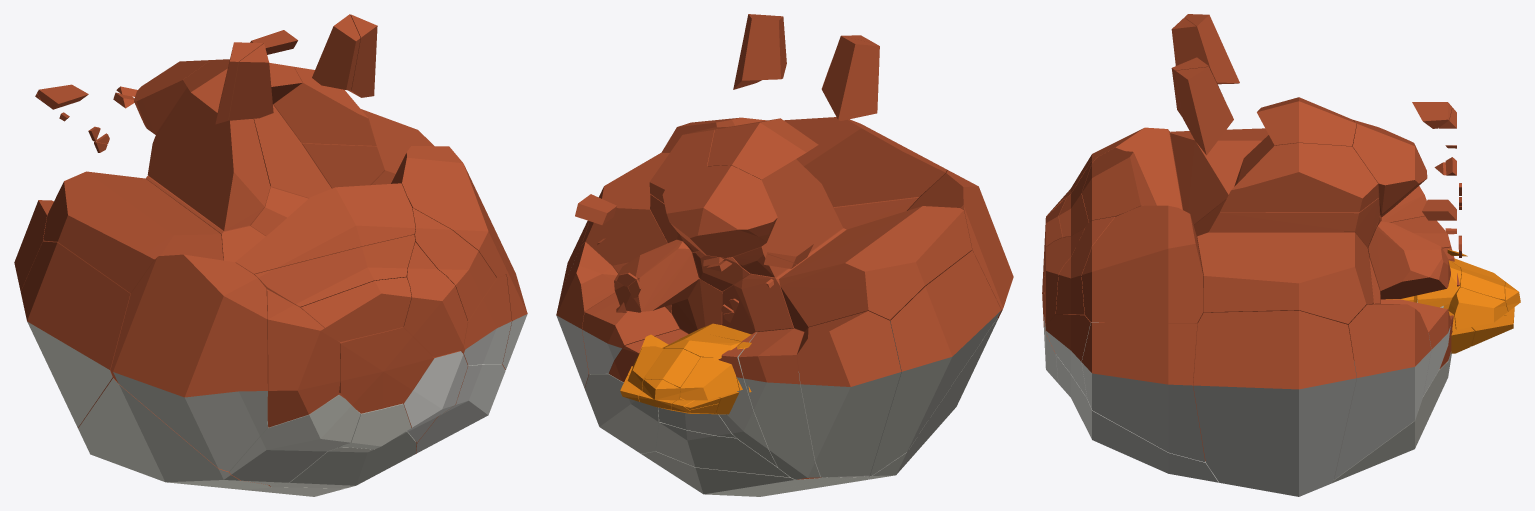
Rendered from explodedBird.fbx.
3 views of the same model, side by side, from view 1: azimuth 30°, elevation 25°; view 2: azimuth 150°, elevation 25°; view 3: azimuth 270°, elevation 25° (orthographic). The views are drawn at different scales.
Parts seen in each view (by area): view 1: Sphere.005_cell.037, Sphere.005_cell.041, Sphere.005_cell.008, Sphere.005_cell.010, Sphere.005_cell.032, Sphere.005_cell.090, Sphere.005_cell.047, Sphere.005_cell.061, Sphere.005_cell.039, Sphere.005_cell.080, Sphere.005_cell.076, Sphere.005_cell.064 (+24 smaller); view 2: Sphere.005_cell.041, Sphere.005_cell.070, Sphere.005_cell.008, Sphere.005_cell.032, Sphere.005_cell.004, Sphere.005_cell.031, Sphere.005_cell.010, Sphere.005_cell.016, Sphere.005_cell.009, Sphere.005_cell.037, Sphere.005_cell.088, Sphere.005_cell.071 (+26 smaller); view 3: Sphere.005_cell.013, Sphere.005_cell.016, Sphere.005_cell.072, Sphere.005_cell.061, Sphere.005_cell.074, Sphere.005_cell.064, Sphere.005_cell.041, Sphere.005_cell.088, Sphere.005_cell.004, Sphere.005_cell.063, Sphere.005_cell.067, Sphere.005_cell.032 (+21 smaller).
Boxes of the visible parts, x1=… form: Sphere.005_cell.037: x1=110, y1=254, x2=267, y2=471; Sphere.005_cell.041: x1=43, y1=171, x2=223, y2=293; Sphere.005_cell.008: x1=20, y1=241, x2=130, y2=427; Sphere.005_cell.010: x1=147, y1=87, x2=270, y2=230; Sphere.005_cell.032: x1=235, y1=183, x2=415, y2=274; Sphere.005_cell.090: x1=78, y1=378, x2=270, y2=489; Sphere.005_cell.047: x1=266, y1=289, x2=340, y2=427; Sphere.005_cell.061: x1=391, y1=146, x2=507, y2=277; Sphere.005_cell.039: x1=229, y1=395, x2=360, y2=484; Sphere.005_cell.080: x1=338, y1=327, x2=433, y2=413; Sphere.005_cell.076: x1=254, y1=234, x2=414, y2=309; Sphere.005_cell.064: x1=273, y1=66, x2=376, y2=145; Sphere.005_cell.041: x1=779, y1=206, x2=971, y2=331; Sphere.005_cell.070: x1=797, y1=311, x2=901, y2=477; Sphere.005_cell.008: x1=869, y1=250, x2=1001, y2=476; Sphere.005_cell.032: x1=784, y1=117, x2=946, y2=207; Sphere.005_cell.004: x1=662, y1=165, x2=777, y2=257; Sphere.005_cell.031: x1=738, y1=328, x2=821, y2=479; Sphere.005_cell.010: x1=733, y1=159, x2=842, y2=277; Sphere.005_cell.016: x1=582, y1=152, x2=669, y2=265; Sphere.005_cell.009: x1=707, y1=118, x2=818, y2=179; Sphere.005_cell.037: x1=908, y1=170, x2=1013, y2=318; Sphere.005_cell.088: x1=614, y1=239, x2=698, y2=312; Sphere.005_cell.071: x1=582, y1=292, x2=679, y2=373; Sphere.005_cell.013: x1=1193, y1=310, x2=1356, y2=496; Sphere.005_cell.016: x1=1197, y1=232, x2=1373, y2=324; Sphere.005_cell.072: x1=1081, y1=322, x2=1205, y2=462; Sphere.005_cell.061: x1=1081, y1=205, x2=1203, y2=322; Sphere.005_cell.074: x1=1334, y1=304, x2=1431, y2=479; Sphere.005_cell.064: x1=1220, y1=143, x2=1378, y2=212; Sphere.005_cell.041: x1=1170, y1=128, x2=1268, y2=225; Sphere.005_cell.088: x1=1367, y1=221, x2=1450, y2=299; Sphere.005_cell.004: x1=1352, y1=120, x2=1427, y2=217; Sphere.005_cell.063: x1=1056, y1=355, x2=1218, y2=482; Sphere.005_cell.067: x1=1209, y1=198, x2=1379, y2=247; Sphere.005_cell.032: x1=1081, y1=147, x2=1156, y2=222.
Bounding box in the file's own units: 1.71 × 1.85 × 1.8.
